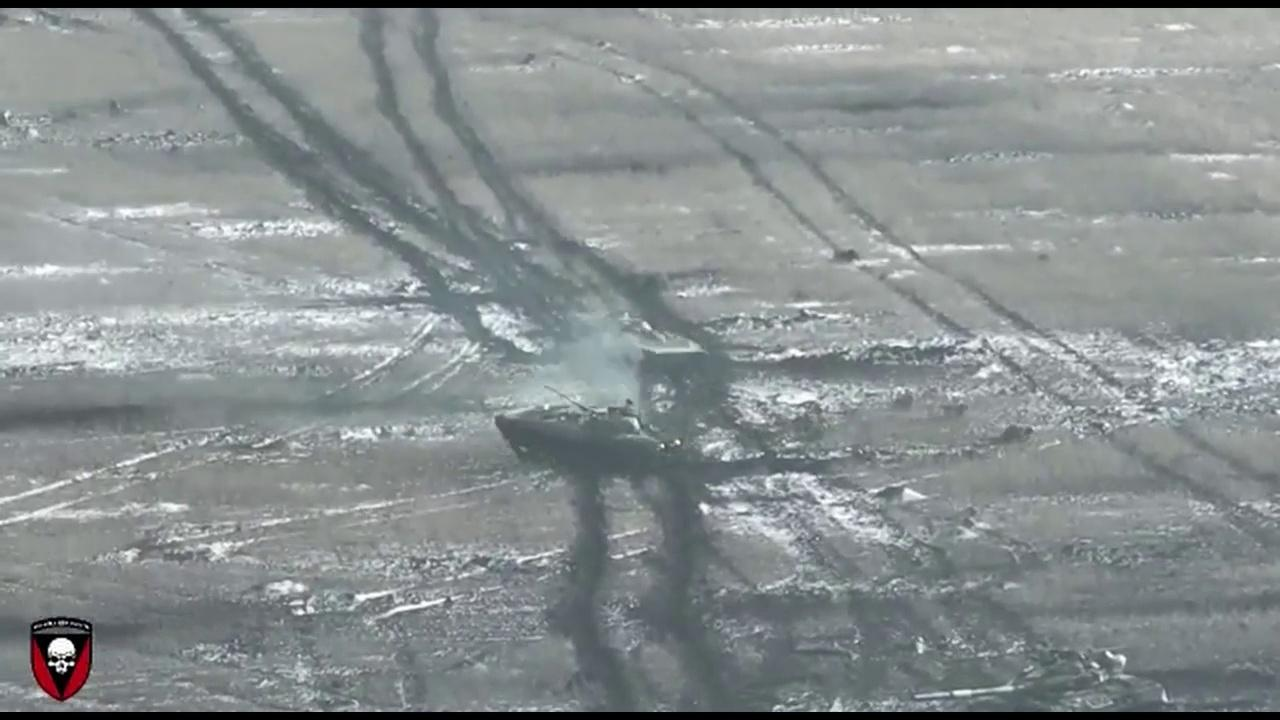vehicle: (494, 384, 681, 469)
